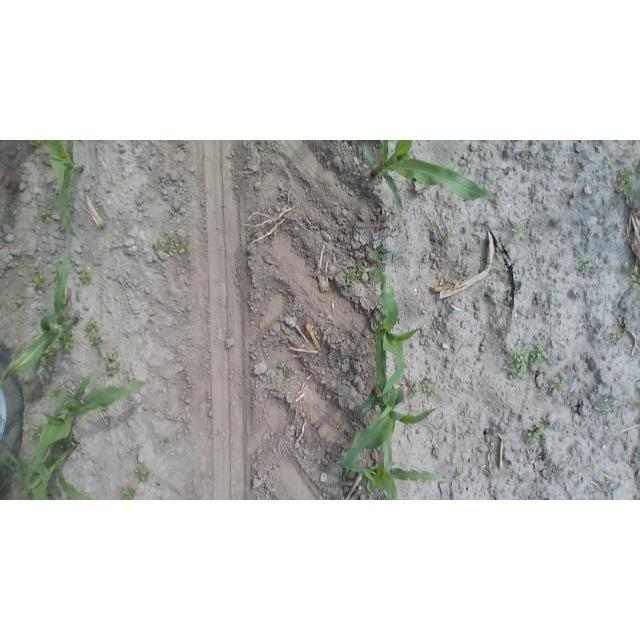Maize: (22, 368, 148, 490), (0, 244, 76, 388), (358, 141, 494, 214), (369, 260, 423, 415), (338, 388, 440, 469), (0, 444, 90, 500), (37, 140, 86, 242), (344, 460, 449, 499)
Weeds: (616, 162, 639, 203), (504, 345, 530, 379), (151, 234, 193, 254), (525, 420, 552, 444), (84, 320, 103, 349), (28, 268, 49, 291), (102, 354, 121, 379), (608, 322, 629, 344), (132, 463, 152, 483), (341, 262, 363, 280), (623, 263, 637, 291), (530, 343, 547, 366), (418, 380, 438, 399), (40, 346, 58, 367), (117, 483, 139, 499), (548, 377, 566, 396), (59, 332, 75, 352), (373, 246, 390, 264), (78, 268, 93, 287), (277, 361, 293, 378), (37, 206, 53, 222), (579, 257, 593, 275), (2, 212, 18, 227), (363, 267, 376, 285), (512, 225, 525, 242), (490, 263, 506, 276), (341, 467, 353, 482), (57, 438, 71, 450), (45, 489, 59, 500), (600, 395, 611, 409), (31, 427, 46, 437), (443, 230, 455, 242), (158, 437, 170, 448), (567, 396, 578, 408), (51, 264, 61, 276), (523, 144, 535, 154), (624, 318, 633, 331), (631, 398, 639, 412), (500, 242, 510, 253), (585, 485, 596, 495), (409, 385, 419, 396), (587, 460, 596, 472), (252, 225, 265, 233), (533, 187, 542, 198), (455, 467, 464, 478), (107, 176, 116, 187), (51, 387, 60, 397), (596, 297, 605, 306), (344, 285, 353, 293), (479, 256, 486, 263), (346, 433, 353, 439), (565, 187, 572, 192), (604, 161, 610, 166), (355, 430, 360, 436), (414, 278, 419, 283), (345, 335, 350, 339), (340, 330, 344, 335)
